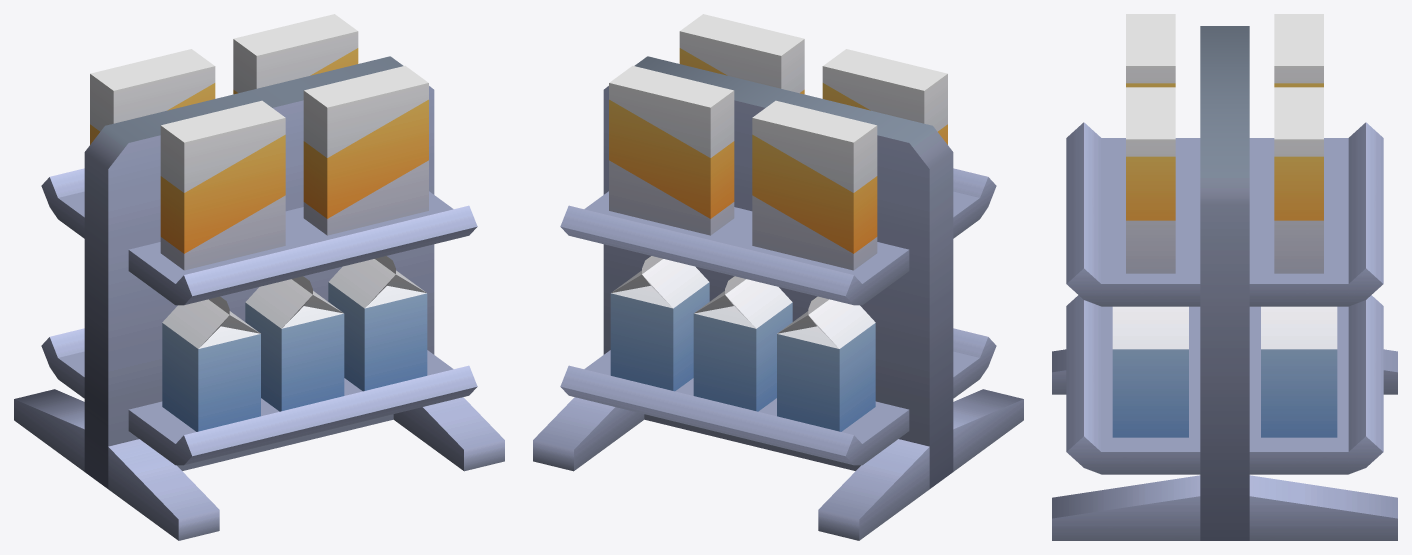
The model's file is market.shelf_boxes.glb.
3 views of the same model, side by side, from view 1: azimuth 30°, elevation 25°; view 2: azimuth 150°, elevation 25°; view 3: azimuth 270°, elevation 25° (orthographic). The views are drawn at different scales.
Visible parts, largest first — view 1: shelf-boxes, box (×4), carton (×3); view 2: shelf-boxes, box (×4), carton (×3); view 3: shelf-boxes, box (×4), carton (×2).
Boxes of the visible parts, left/top/right/bottom form: shelf-boxes: left=14, top=56, right=504, bottom=540; box (×4): left=90, top=14, right=428, bottom=270; carton (×3): left=162, top=256, right=427, bottom=431; shelf-boxes: left=533, top=56, right=1023, bottom=540; box (×4): left=609, top=14, right=947, bottom=270; carton (×3): left=610, top=256, right=875, bottom=431; shelf-boxes: left=1052, top=26, right=1397, bottom=540; box (×4): left=1126, top=14, right=1323, bottom=273; carton (×2): left=1112, top=306, right=1337, bottom=437.
Size of the model in its own units: 2.05 by 2.17 by 1.79.
Materials: 1 (1 with a texture image).
